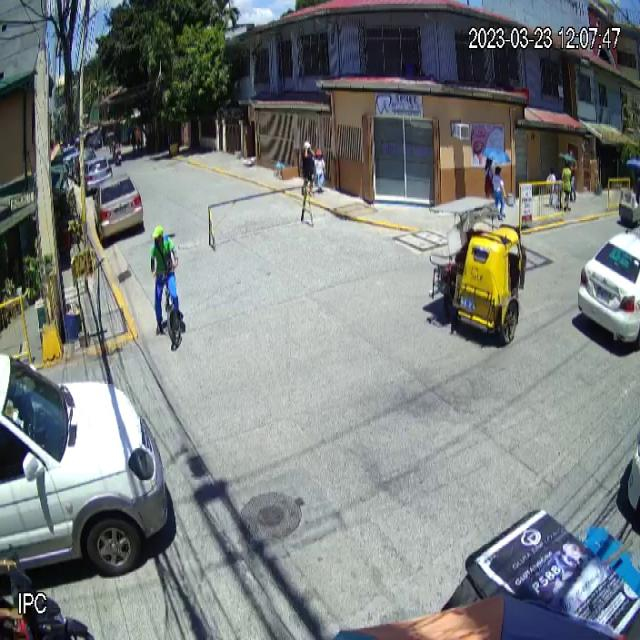Tricycle: (429, 195, 528, 348)
